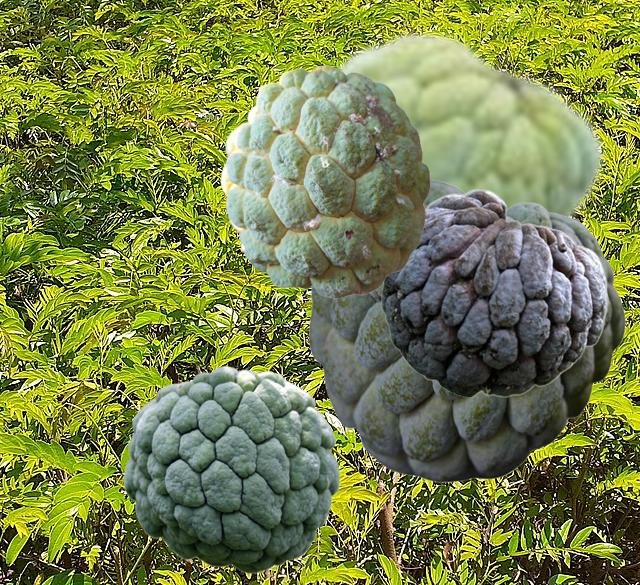atis: (308, 179, 624, 481), (332, 27, 604, 223), (220, 65, 429, 297), (381, 188, 607, 396), (123, 365, 339, 573)
